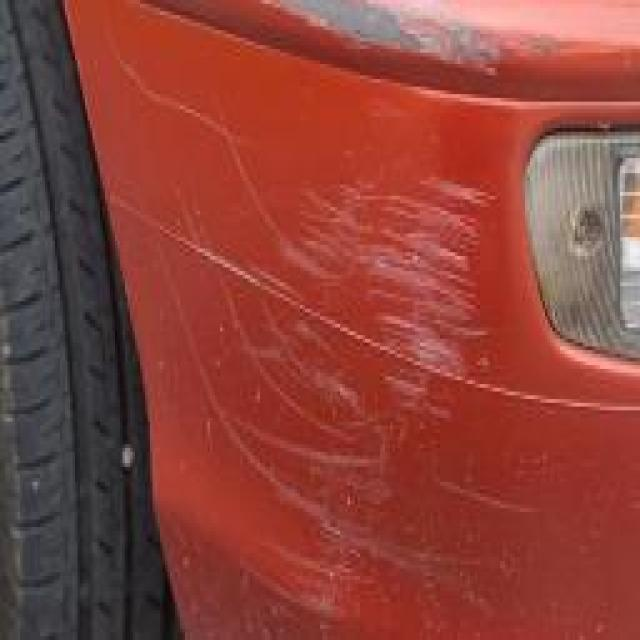Bumper: (98, 23, 530, 636)
